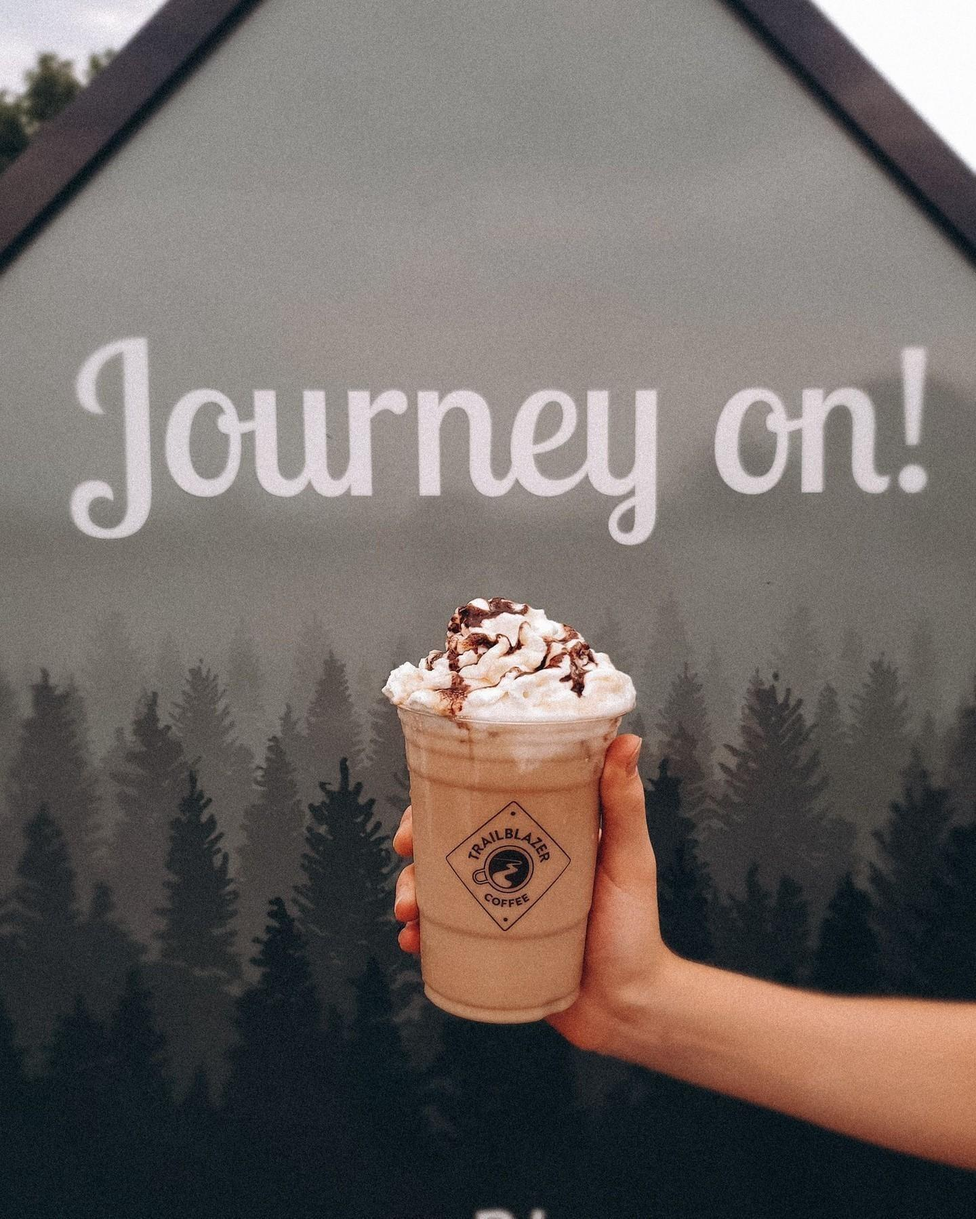cup-disposable: (385, 629, 641, 1030)
